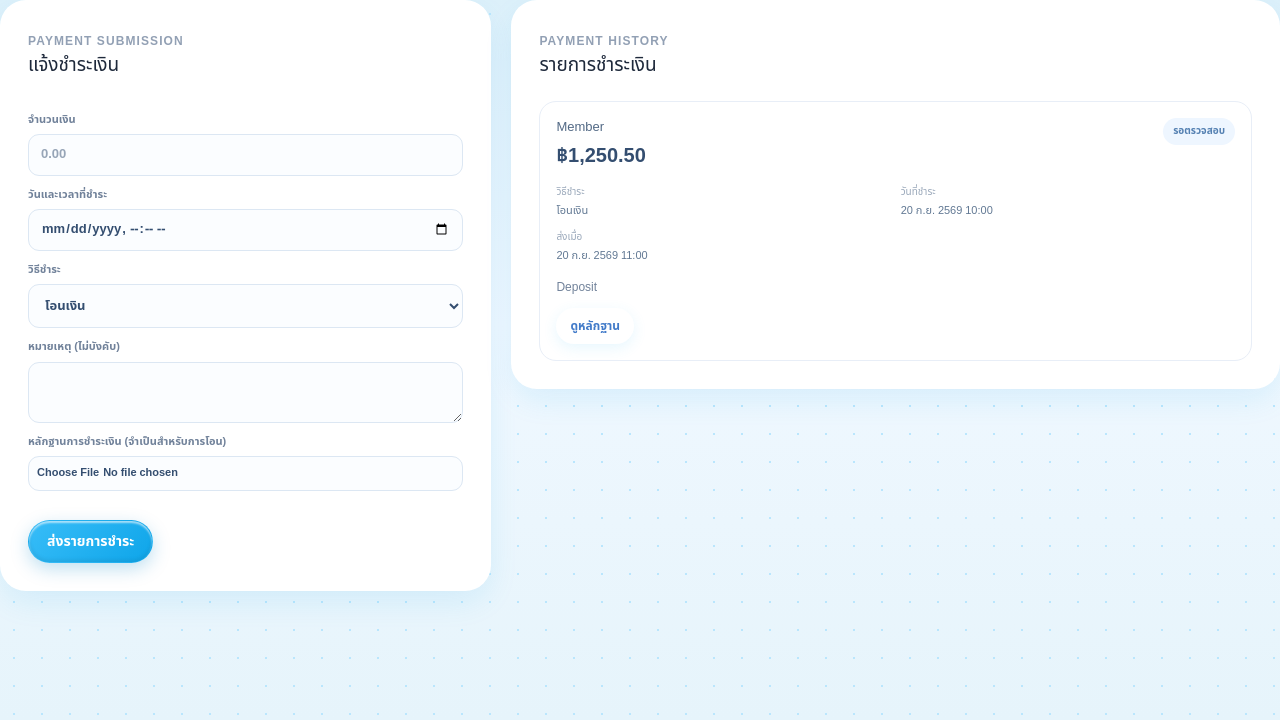
Scenario: M2.8 payment submission, history, and review UI › requires a proof file for bank transfer before sending the form
Type "1250.50" into the number field labelled "จำนวนเงิน" at (246, 155), box [28, 134, 463, 176]
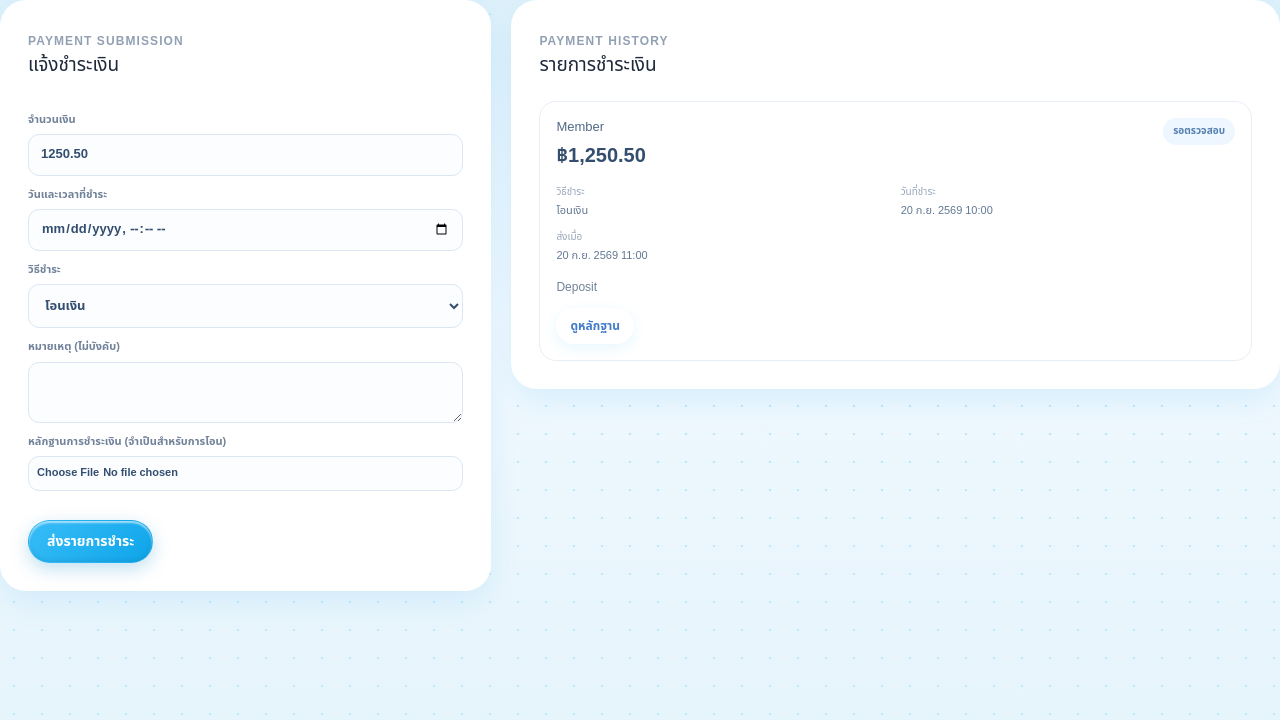
Type "2026-09-20T14:30" into the field labelled "วันและเวลาที่ชำระ" at (246, 230), box [28, 209, 463, 250]
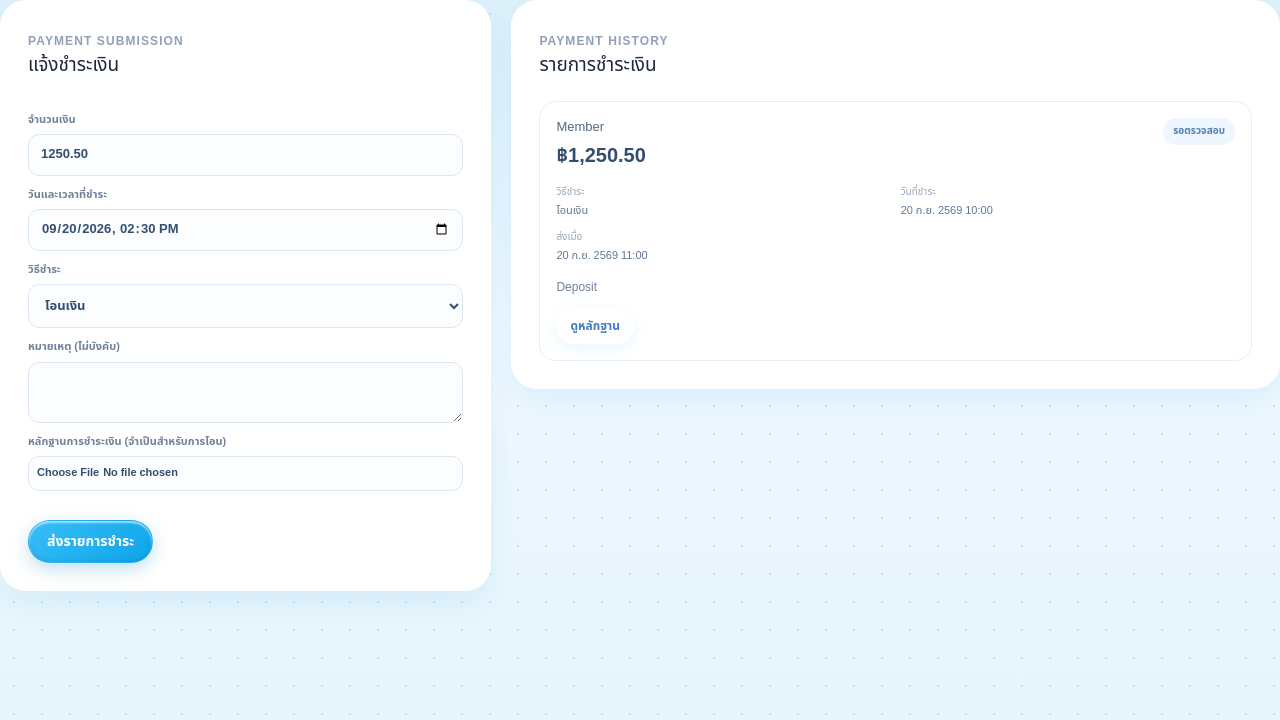
Click the button "ส่งรายการชำระ" at (91, 541), box [28, 520, 153, 562]
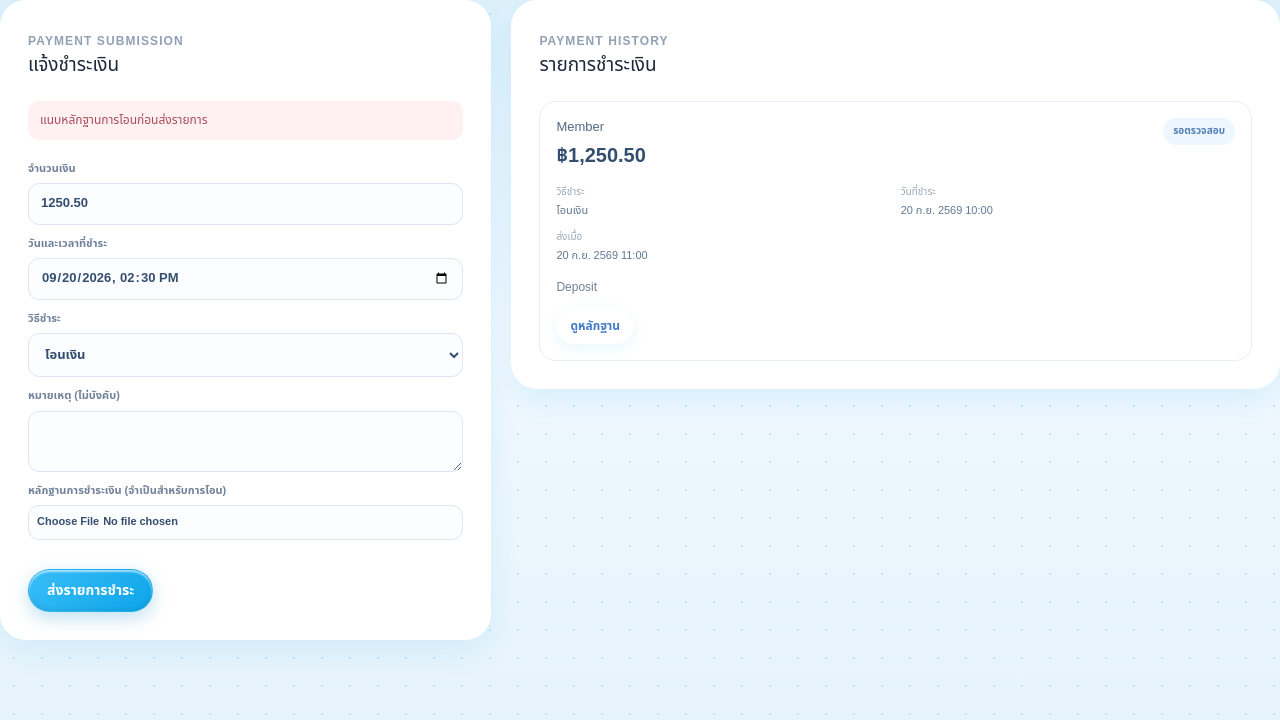
Result: the message shows "แนบหลักฐานการโอน" at [40, 110, 208, 128]
